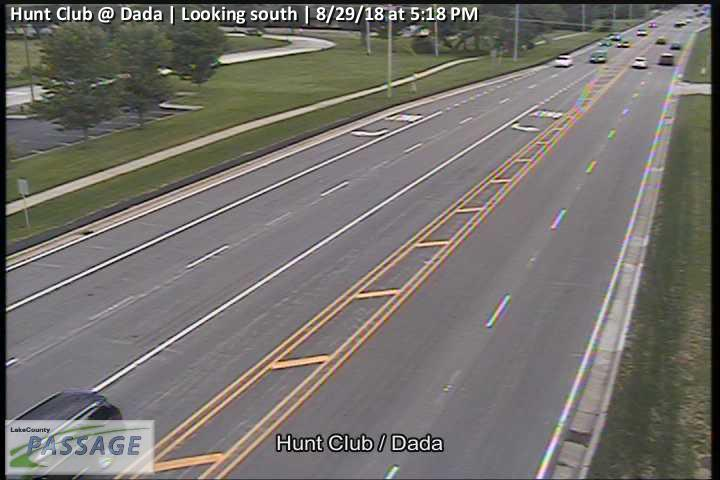SUV: (4, 390, 127, 480)
Sedan: (588, 50, 608, 63), (555, 55, 573, 68), (657, 52, 674, 65), (631, 56, 647, 69), (654, 35, 665, 44), (607, 34, 622, 40), (636, 28, 648, 35), (670, 41, 680, 49)
